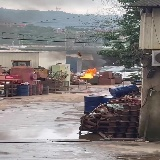fire: (80, 68, 96, 78)
